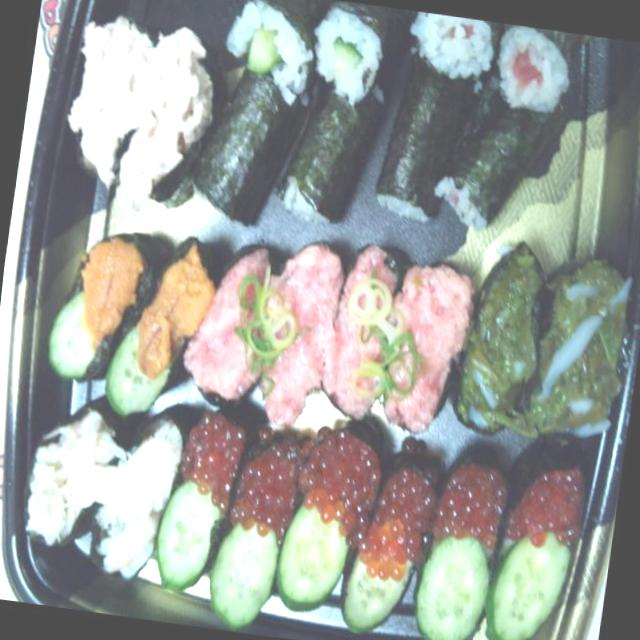Sushi: (64, 0, 590, 266)
